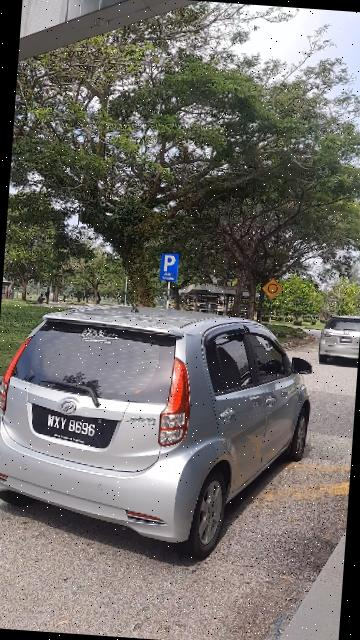License_Plate: (26, 400, 121, 453)
car: (1, 273, 324, 565)
